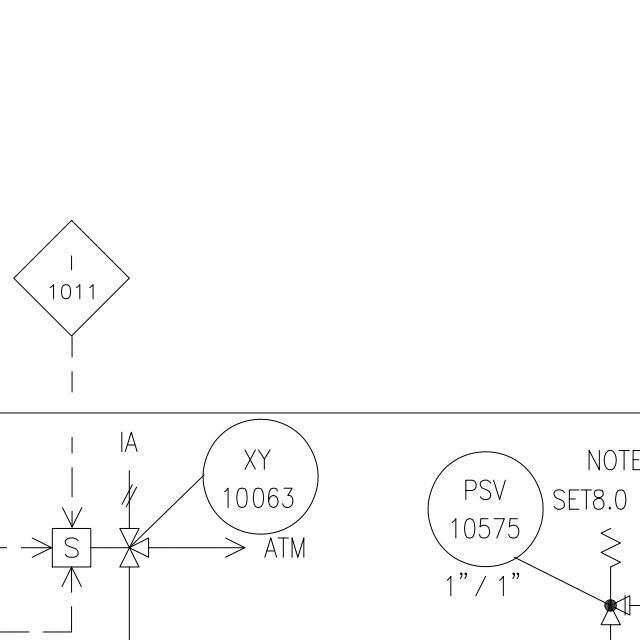3W: (116, 517, 157, 579)
RPV: (597, 527, 635, 628)
SV: (47, 523, 140, 572)
